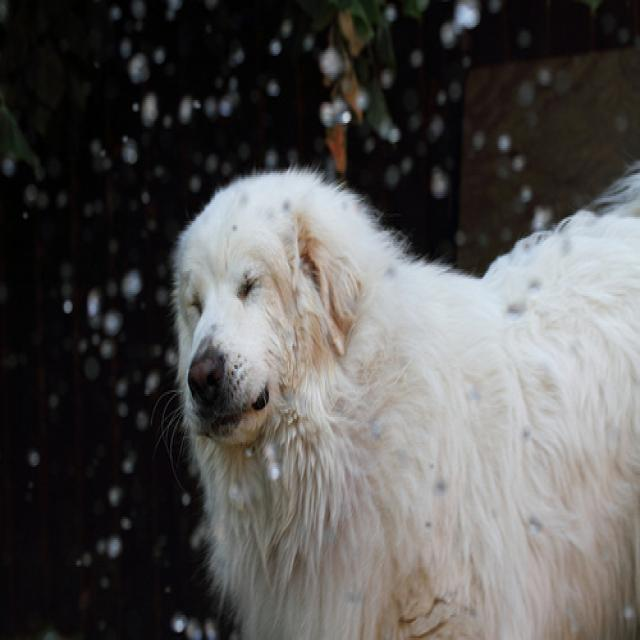dog-great_pyrenees: (147, 146, 637, 636)
